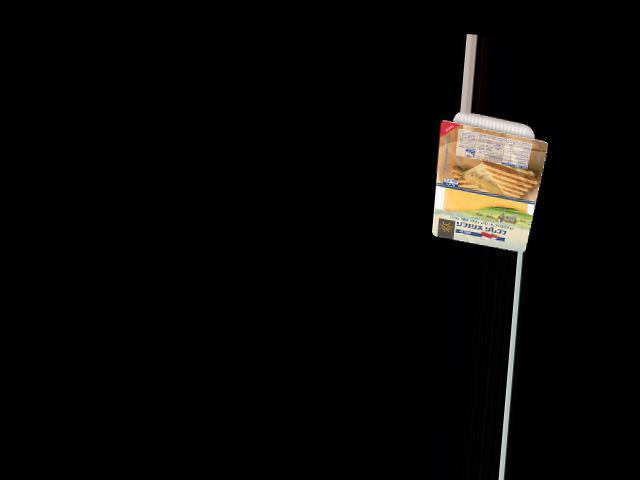cheese: (435, 110, 547, 252)
